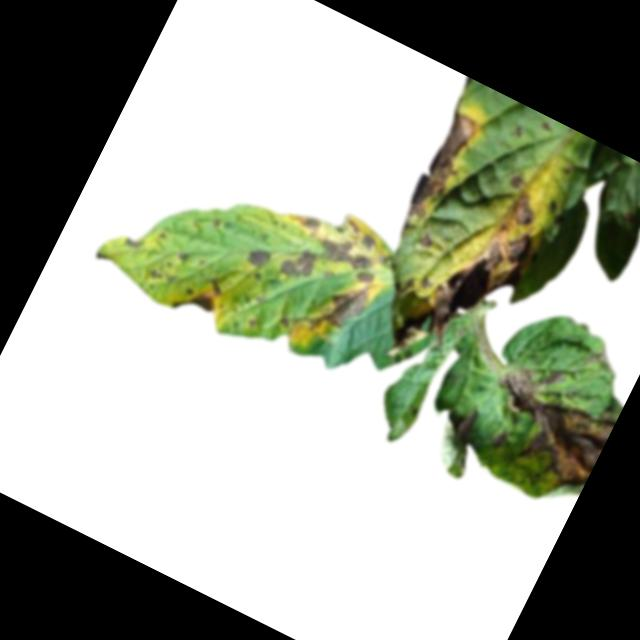Early_blight: (386, 201, 537, 390), (466, 347, 624, 498), (284, 193, 405, 291), (402, 110, 482, 226), (308, 270, 379, 348), (169, 266, 229, 326), (276, 242, 321, 288), (504, 188, 546, 232), (447, 403, 483, 454), (147, 255, 182, 289), (243, 244, 273, 273), (390, 273, 416, 304), (583, 346, 609, 374), (121, 232, 146, 256), (274, 312, 296, 335), (414, 231, 436, 253), (506, 170, 527, 191), (488, 431, 508, 452), (545, 200, 561, 216), (172, 248, 188, 263)
